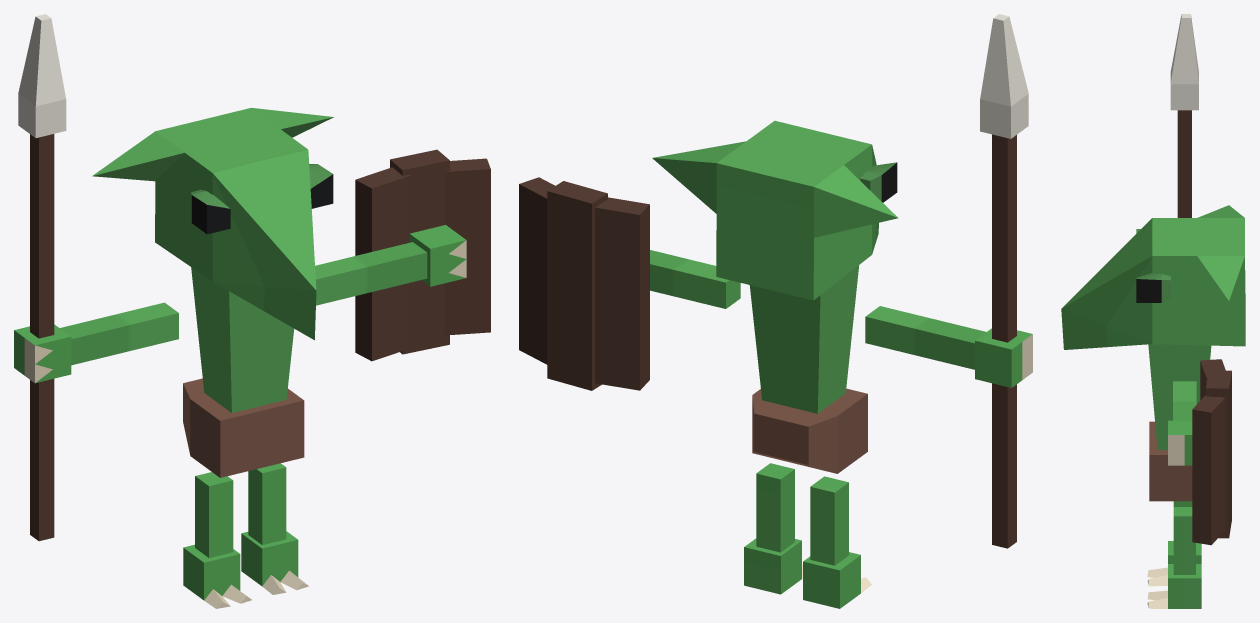
The model's file is GoblinGrunt.fbx.
3 views of the same model, side by side, from view 1: azimuth 30°, elevation 25°; view 2: azimuth 150°, elevation 25°; view 3: azimuth 270°, elevation 25° (orthographic). The views are drawn at different scales.
Visible parts, largest first — view 1: Head, Shield, Spear, Torso, Hip, Arm_L, Arm_R, Leg_R, Leg_L, Foot_R, Foot_L, Hand_R (+1 smaller); view 2: Head, Shield, Spear, Torso, Hip, Arm_R, Arm_L, Leg_R, Leg_L, Hand_R, Foot_R, Foot_L; view 3: Head, Shield, Spear, Torso, Hip, Foot_L, Leg_L, Hand_L, Arm_L, Foot_R.
Part boxes in pixels (bbox=[...]): Head: bbox=[92, 107, 333, 340]; Shield: bbox=[355, 149, 490, 361]; Spear: bbox=[18, 14, 66, 541]; Torso: bbox=[191, 267, 294, 412]; Hip: bbox=[183, 378, 304, 477]; Arm_L: bbox=[315, 242, 427, 305]; Arm_R: bbox=[60, 302, 178, 365]; Leg_R: bbox=[195, 472, 233, 557]; Leg_L: bbox=[248, 463, 286, 544]; Foot_R: bbox=[183, 544, 251, 608]; Foot_L: bbox=[241, 531, 308, 594]; Hand_R: bbox=[14, 324, 71, 383]; Head: bbox=[652, 120, 898, 300]; Shield: bbox=[519, 177, 649, 390]; Spear: bbox=[980, 14, 1028, 548]; Torso: bbox=[749, 265, 859, 413]; Hip: bbox=[752, 388, 867, 473]; Arm_R: bbox=[865, 306, 985, 369]; Arm_L: bbox=[650, 250, 740, 308]; Leg_R: bbox=[810, 476, 848, 565]; Leg_L: bbox=[756, 463, 794, 552]; Hand_R: bbox=[975, 328, 1032, 387]; Foot_R: bbox=[803, 552, 871, 608]; Foot_L: bbox=[744, 538, 802, 594]; Head: bbox=[1061, 205, 1245, 349]; Shield: bbox=[1192, 359, 1231, 545]; Spear: bbox=[1170, 14, 1198, 217]; Torso: bbox=[1148, 344, 1211, 449]; Hip: bbox=[1149, 421, 1192, 501]; Foot_L: bbox=[1147, 564, 1201, 608]; Leg_L: bbox=[1173, 507, 1195, 574]; Hand_L: bbox=[1168, 420, 1192, 465]; Arm_L: bbox=[1173, 381, 1196, 420]; Foot_R: bbox=[1147, 541, 1201, 586].
Size of the model in its own units: 13.23 by 16.14 by 5.43.
